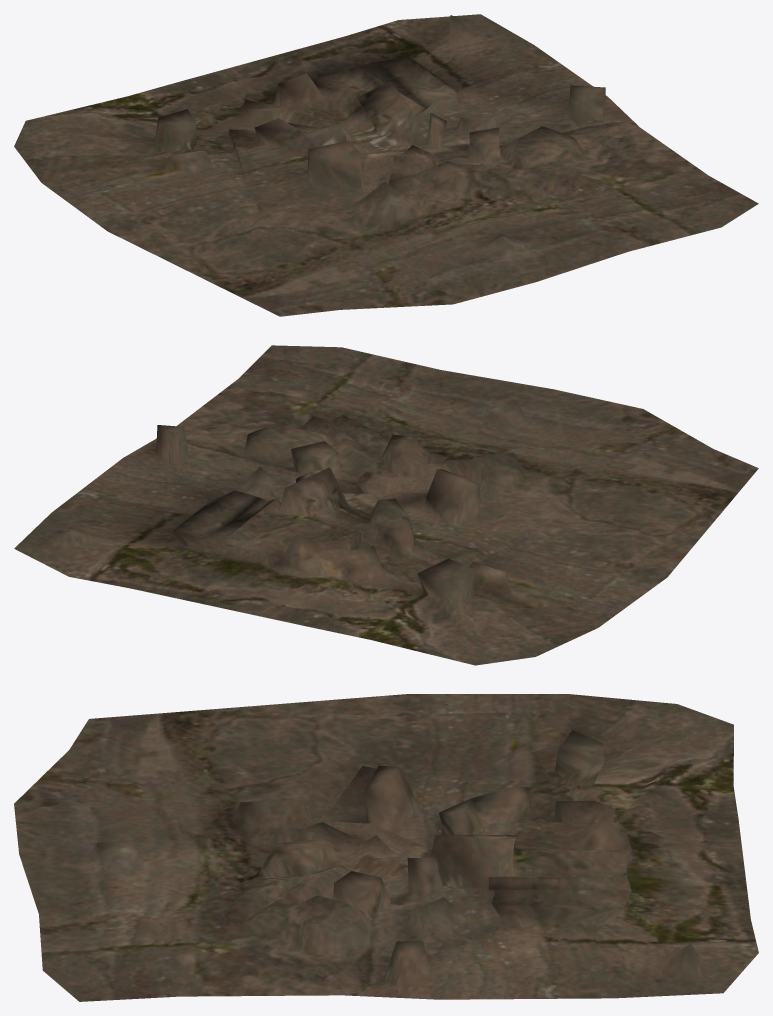
The model's file is Rubbles_10.fbx.
3 views of the same model, one above another, from view 1: azimuth 30°, elevation 25°; view 2: azimuth 150°, elevation 25°; view 3: azimuth 270°, elevation 25° (orthographic). The views are drawn at different scales.
Visible parts, largest first — view 1: Rubble_Decal_02_LOD2:Rubble_Decal_02_LOD2_0; view 2: Rubble_Decal_02_LOD2:Rubble_Decal_02_LOD2_0; view 3: Rubble_Decal_02_LOD2:Rubble_Decal_02_LOD2_0.
Part boxes in pixels (left/top/right/bottom): Rubble_Decal_02_LOD2:Rubble_Decal_02_LOD2_0: left=14, top=14, right=758, bottom=316; Rubble_Decal_02_LOD2:Rubble_Decal_02_LOD2_0: left=14, top=345, right=758, bottom=665; Rubble_Decal_02_LOD2:Rubble_Decal_02_LOD2_0: left=14, top=694, right=758, bottom=1001.
Size of the model in its own units: 14.16 by 1.07 by 14.48.
1 material, 1 textured.
